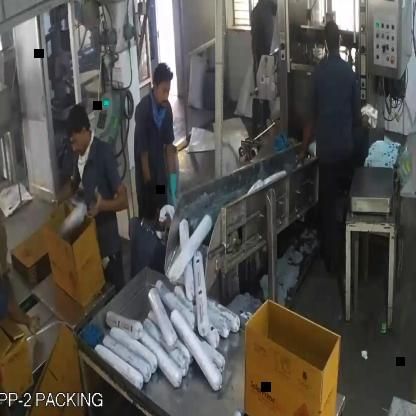glove: (163, 146, 185, 218)
no_glove: (84, 176, 134, 232), (52, 170, 84, 220)
